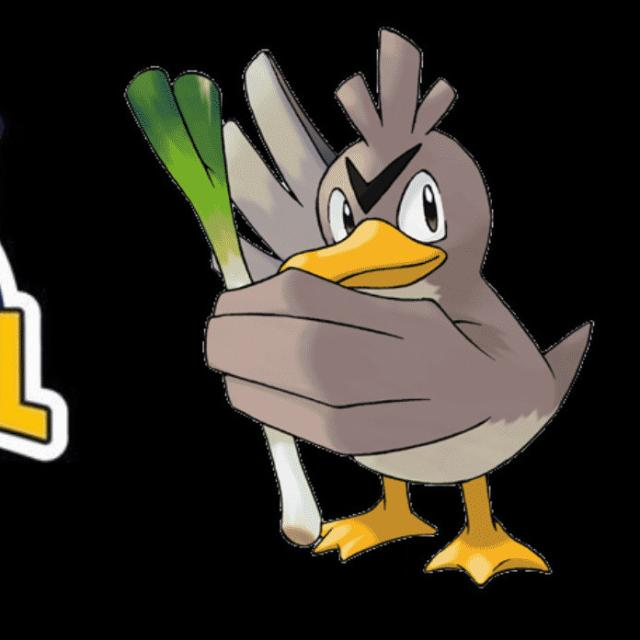Farfetchd: (123, 24, 602, 596)
